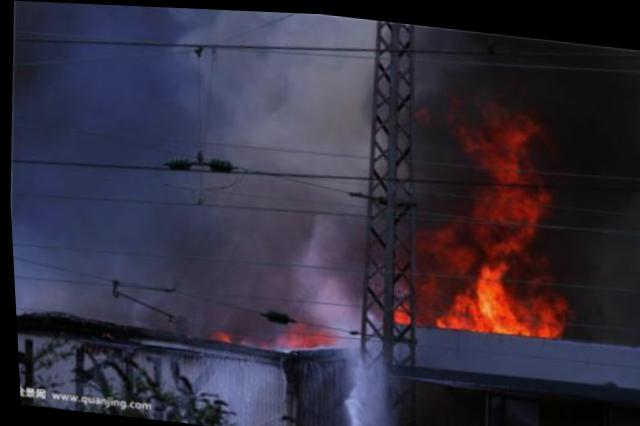fire: (407, 222, 564, 333), (458, 160, 536, 236), (444, 100, 532, 167)
